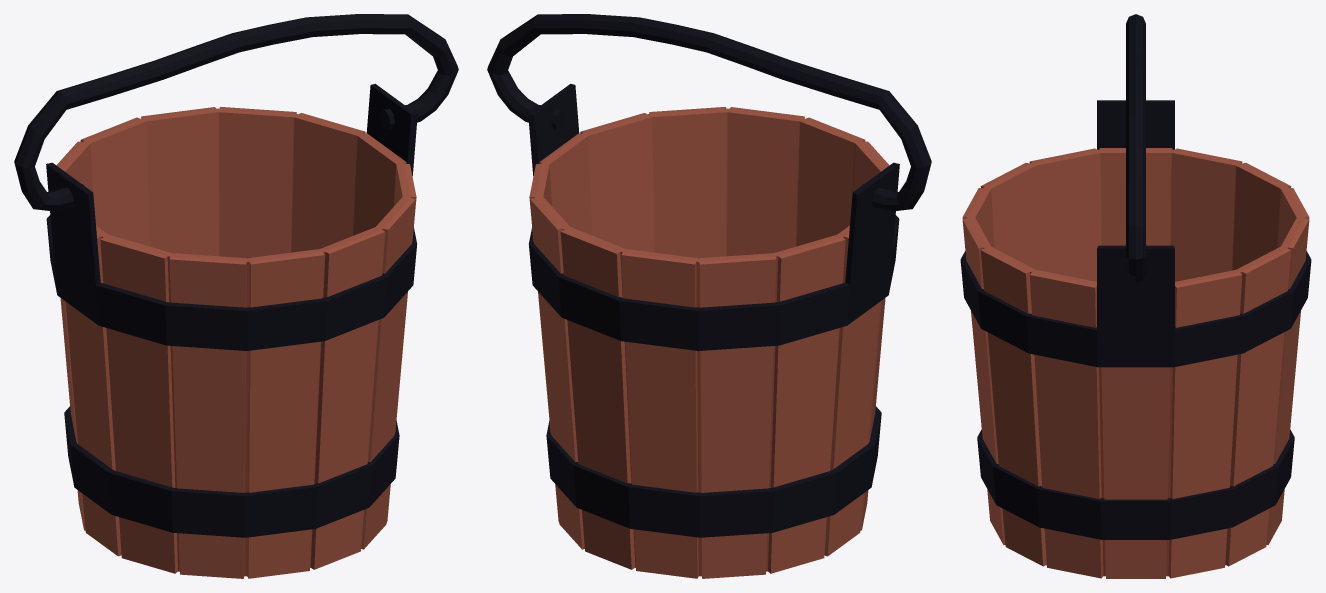
The model's file is bucket.fbx.
3 views of the same model, side by side, from view 1: azimuth 30°, elevation 25°; view 2: azimuth 150°, elevation 25°; view 3: azimuth 270°, elevation 25° (orthographic). The views are drawn at different scales.
Visible parts, largest first — view 1: bucket; view 2: bucket; view 3: bucket.
Part boxes in pixels (x1,y1,x2,y2): bucket: (14, 14, 458, 578); bucket: (487, 14, 931, 578); bucket: (960, 14, 1311, 578).
Bounding box in the file's own units: 47.02 × 48.61 × 35.
